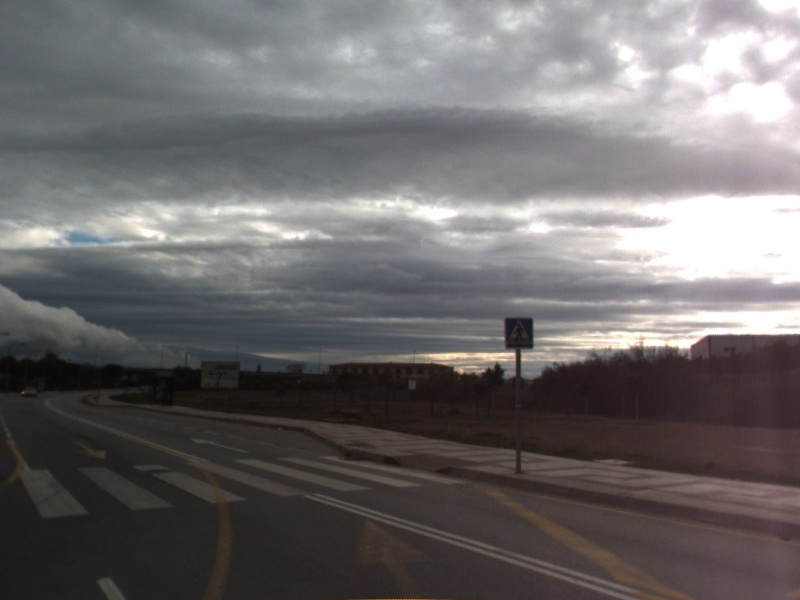STRAIGHT: (188, 435, 251, 455)
